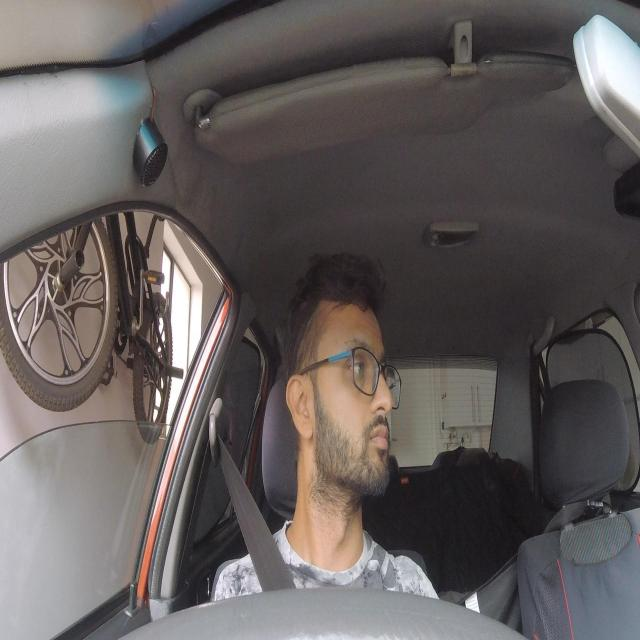open: (342, 335, 374, 398)
